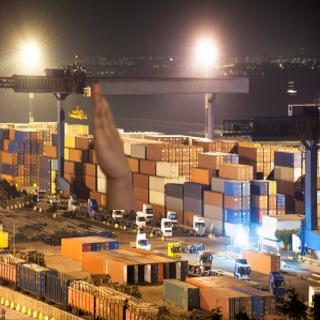RIGHT: (86, 79, 133, 179)
